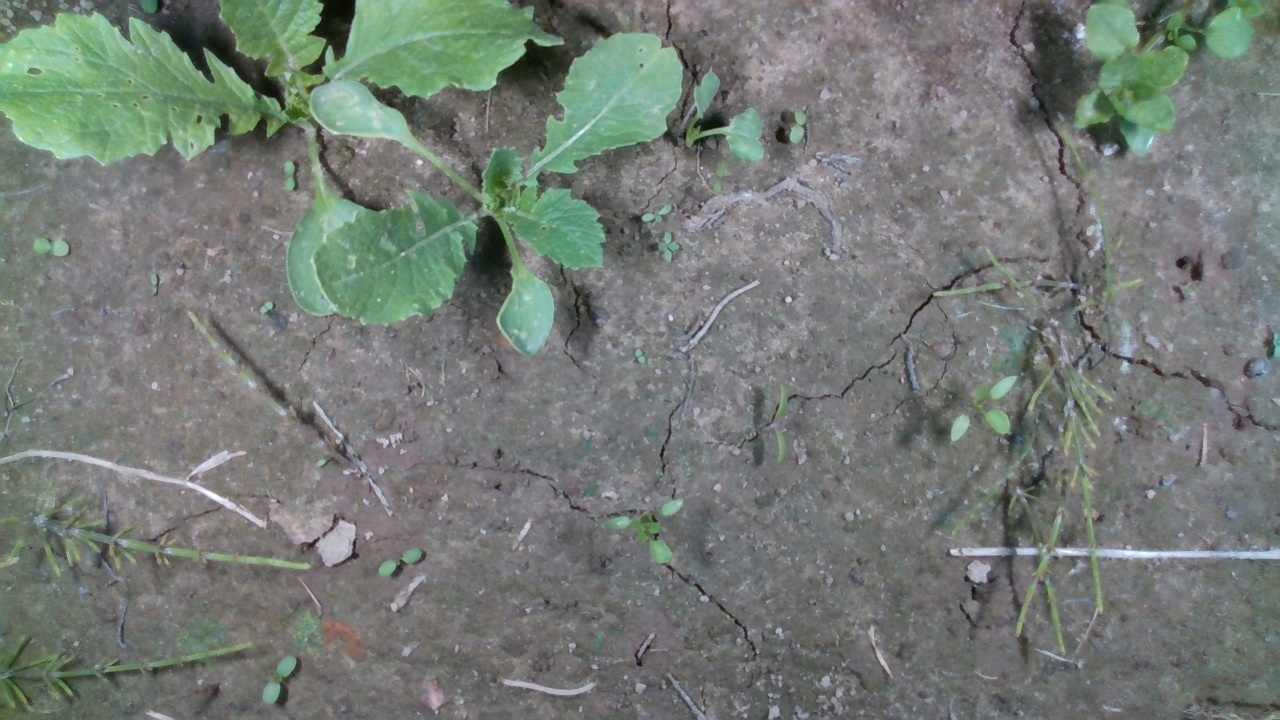weed: (949, 374, 1019, 442), (261, 654, 298, 705), (770, 381, 791, 463), (376, 547, 422, 578), (657, 230, 681, 264), (32, 237, 70, 257), (789, 105, 806, 145), (640, 203, 672, 224), (282, 159, 296, 192), (150, 273, 160, 299), (259, 299, 274, 316)
